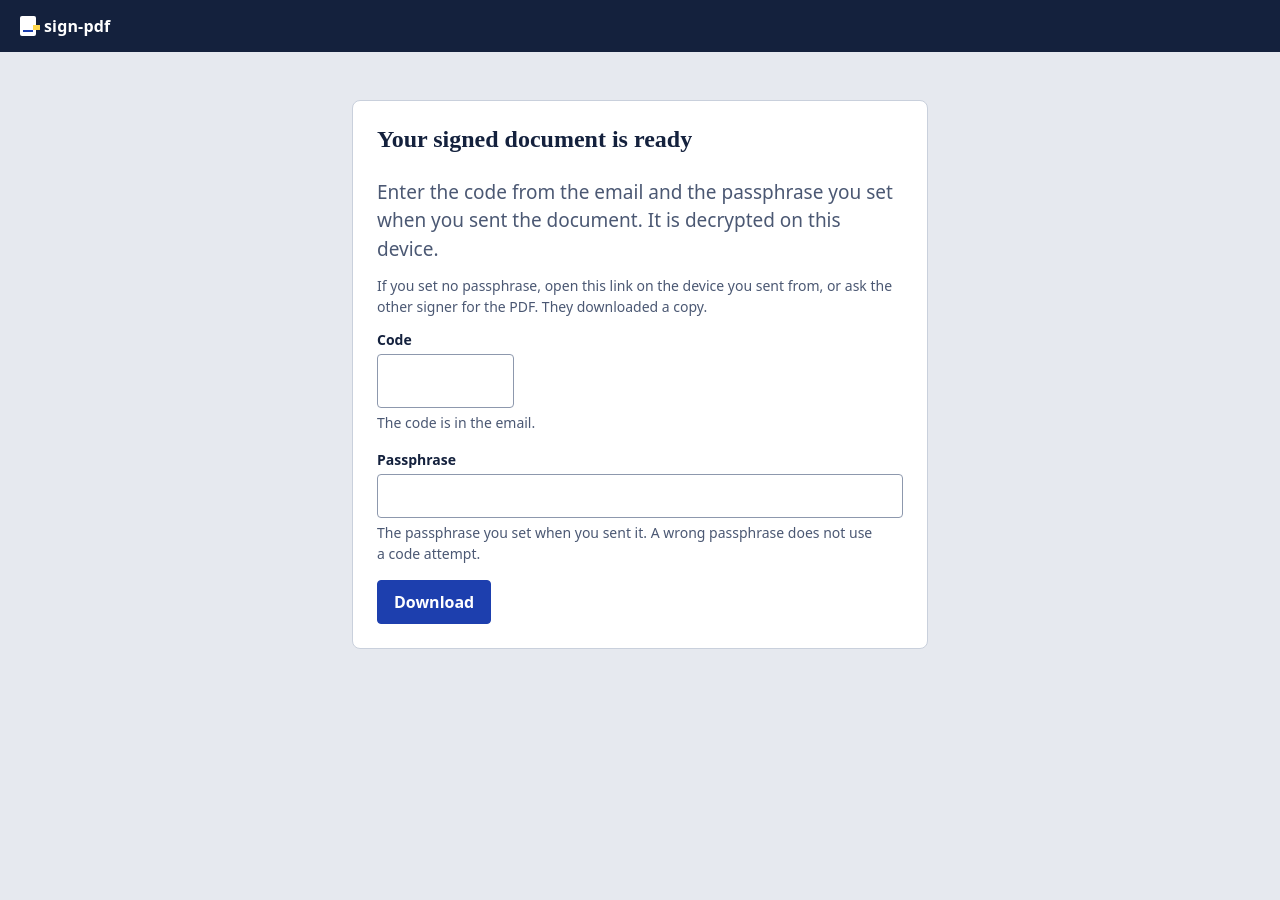
Test: collect the signed PDF › on a device without the kept key (issue #105) › unwraps the key with the passphrase, downloads, then deletes the server copy
In the field with test id "relay-collect-code": (446, 381) 377,354 -> 514,408, type "123456"
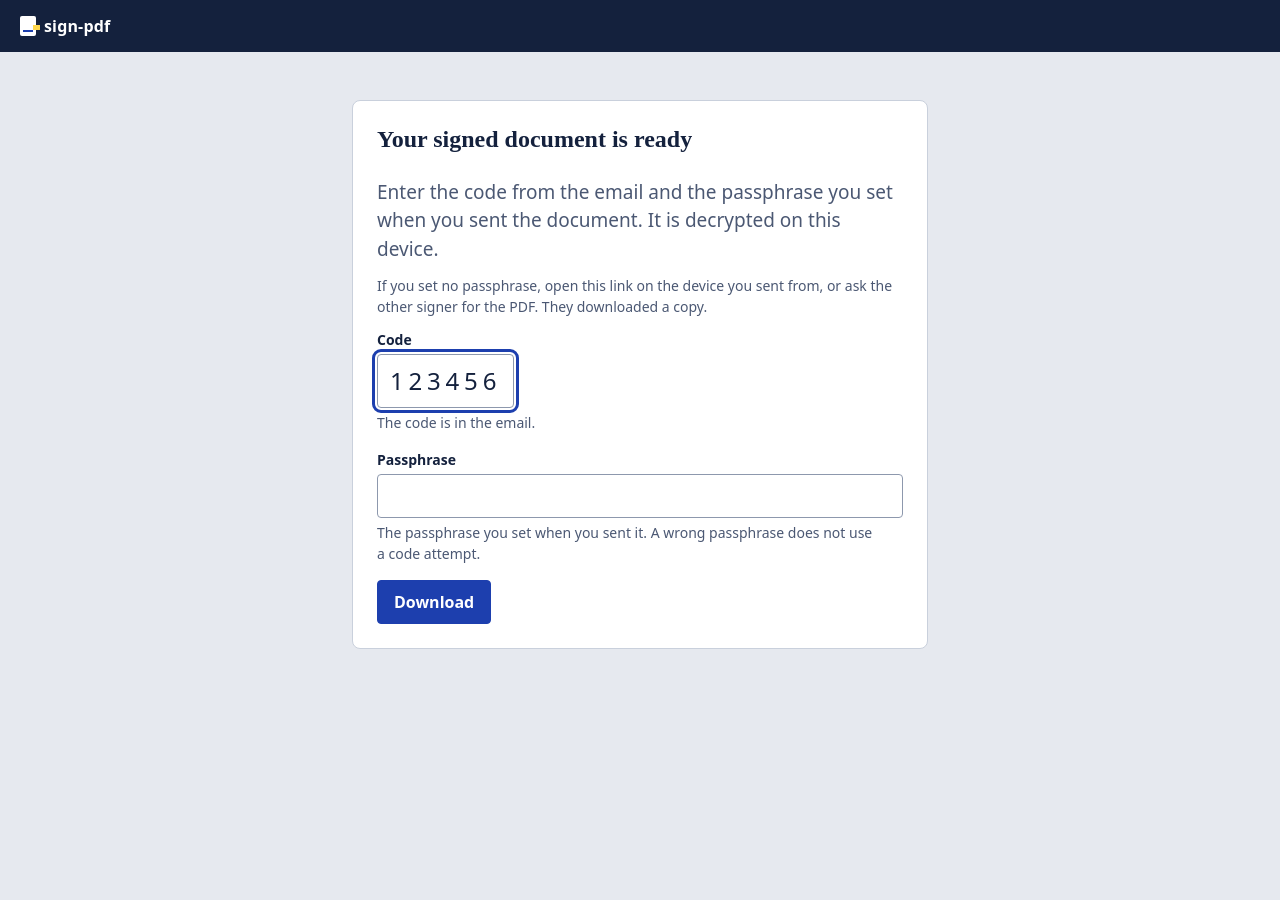
In the password field with test id "relay-collect-password": (640, 496) 377,474 -> 903,518, type "correct horse"
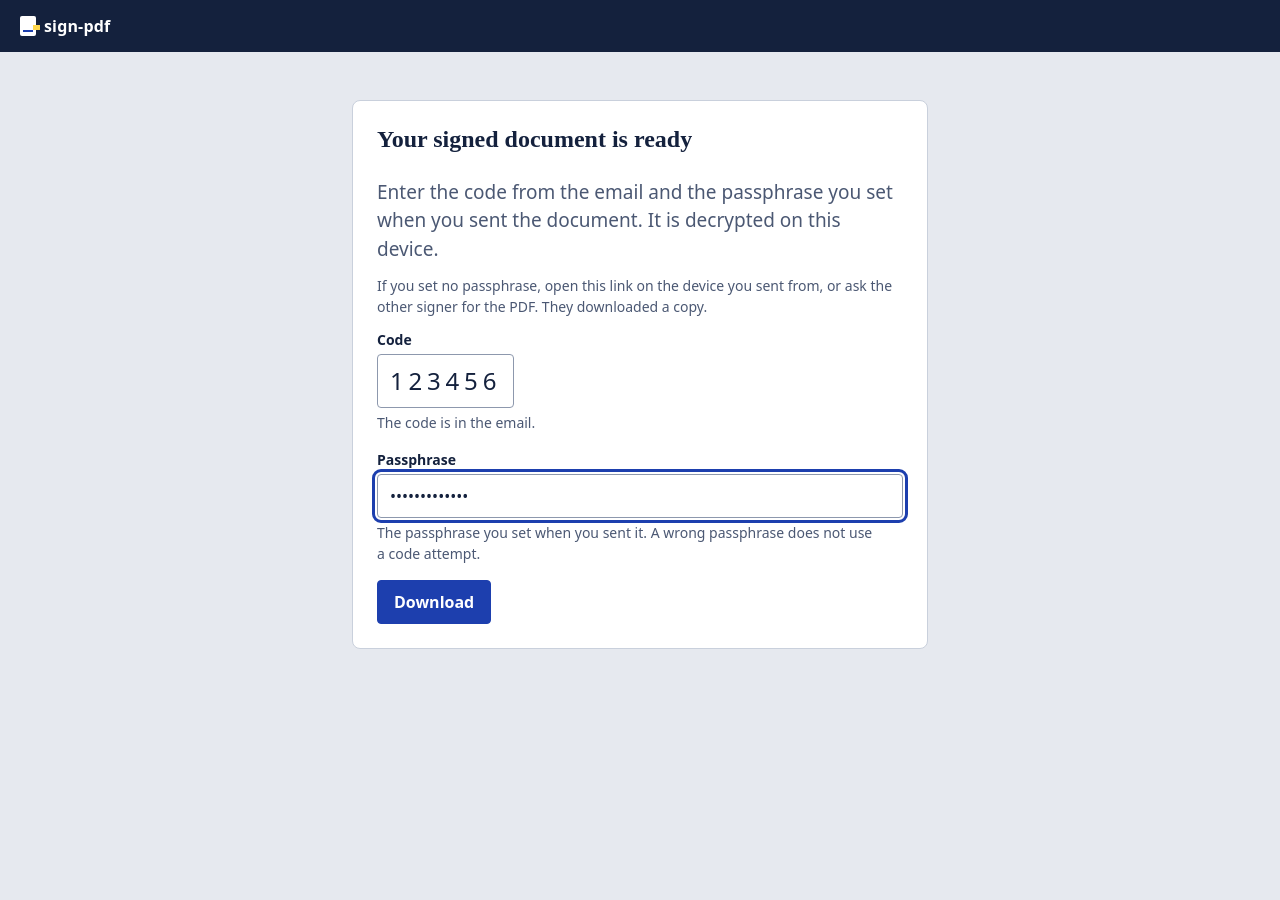
Click the button with test id "relay-collect-button": (434, 602) 377,580 -> 491,624
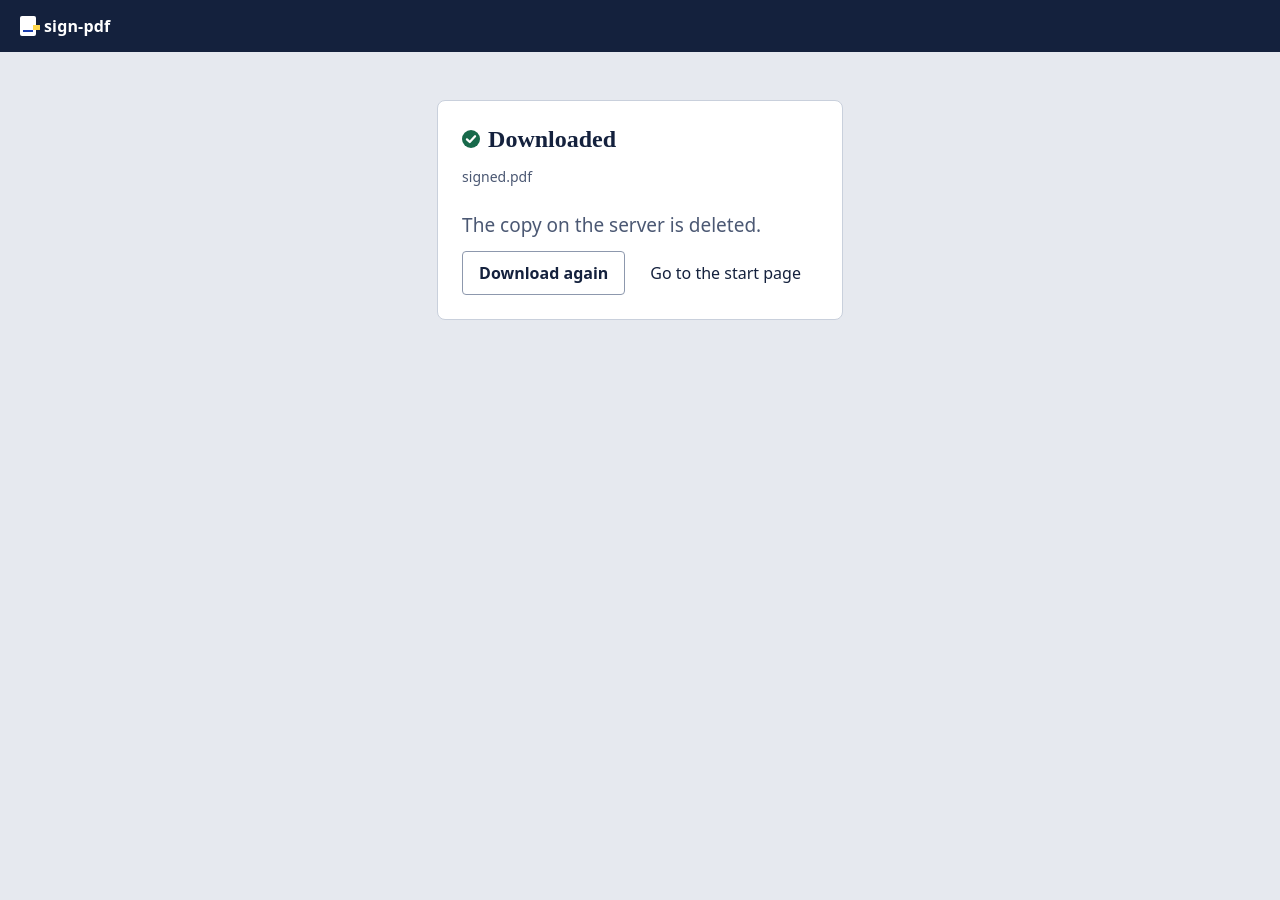
Result: the element with test id "relay-collect-done" shows "The copy on the server is deleted." at 462,212 -> 761,238
